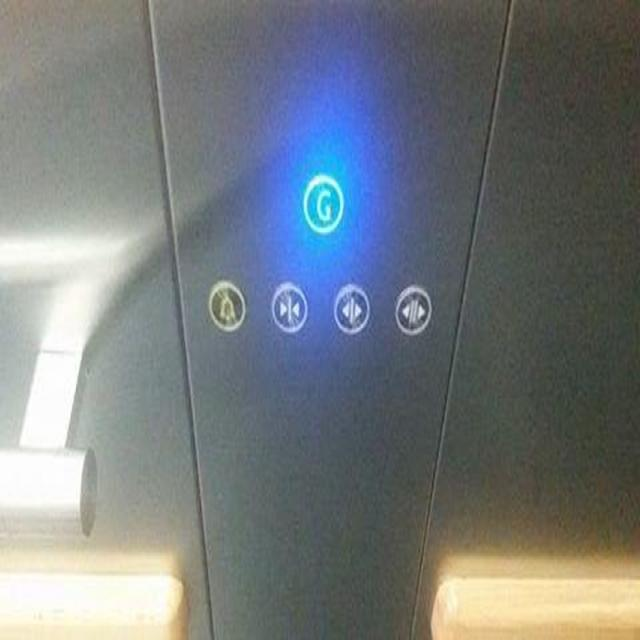G: (299, 168, 346, 245)
alarm: (204, 276, 246, 337)
close: (265, 276, 310, 336)
open: (328, 281, 372, 336), (391, 284, 434, 339)
